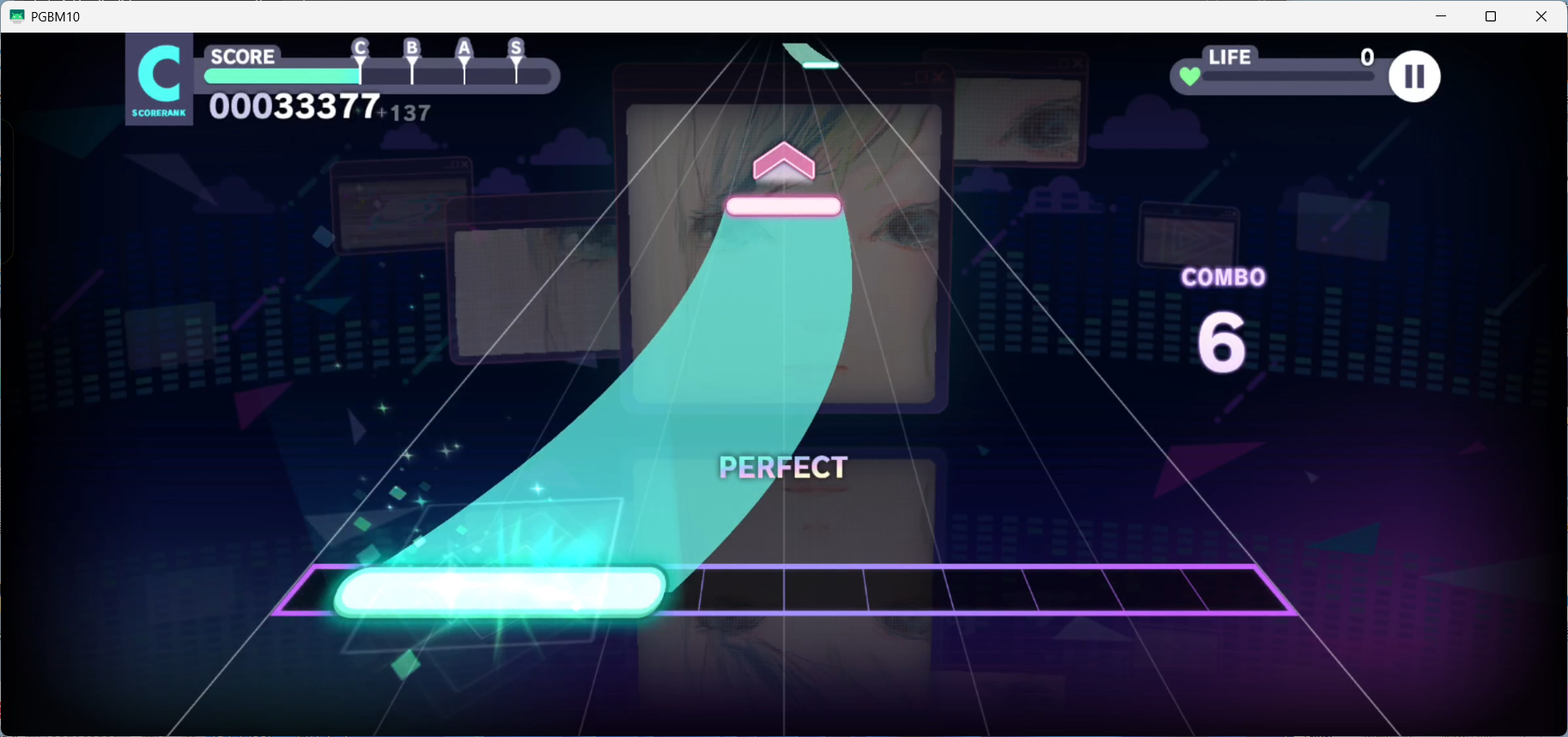flick: (753, 141, 814, 186)
hold: (374, 217, 851, 570)
tap: (331, 568, 671, 621), (726, 197, 841, 216), (782, 43, 833, 63), (803, 62, 839, 69)
